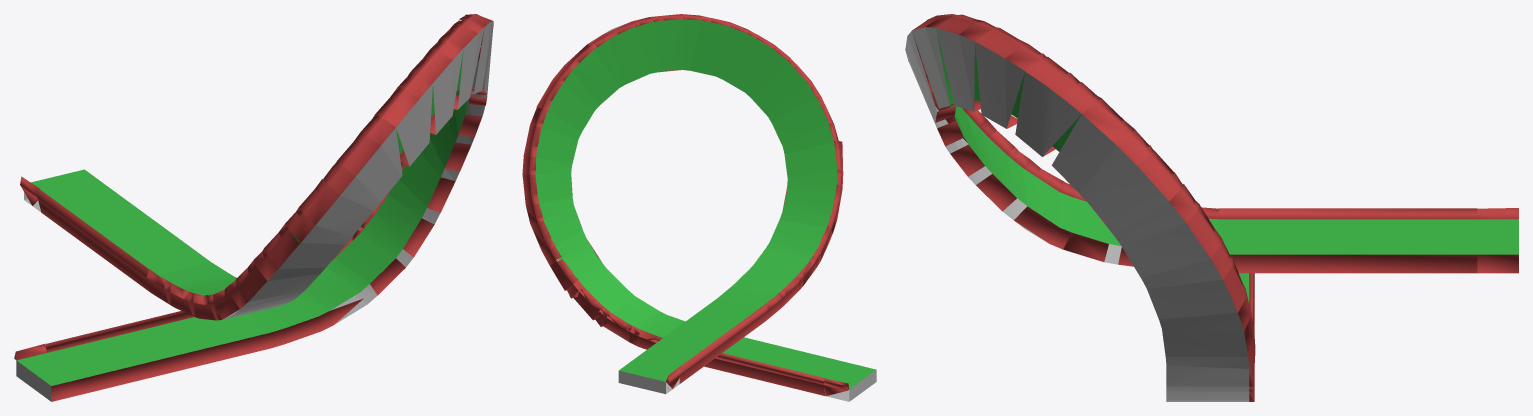
File: 90_Loop.fbx
The picture shows the model from 3 angles, left to right: view 1: azimuth 30°, elevation 25°; view 2: azimuth 150°, elevation 25°; view 3: azimuth 270°, elevation 25°; orthographic projection. The views are drawn at different scales.
Parts seen in each view (by area): view 1: tg_0027_Mlt_3; view 2: tg_0027_Mlt_3; view 3: tg_0027_Mlt_3.
Boxes of the visible parts, x1,y1,x2,y2 form: tg_0027_Mlt_3: (14, 14, 493, 401); tg_0027_Mlt_3: (522, 14, 876, 401); tg_0027_Mlt_3: (905, 14, 1518, 401).
Size of the model in its own units: 551 by 408 by 567.
